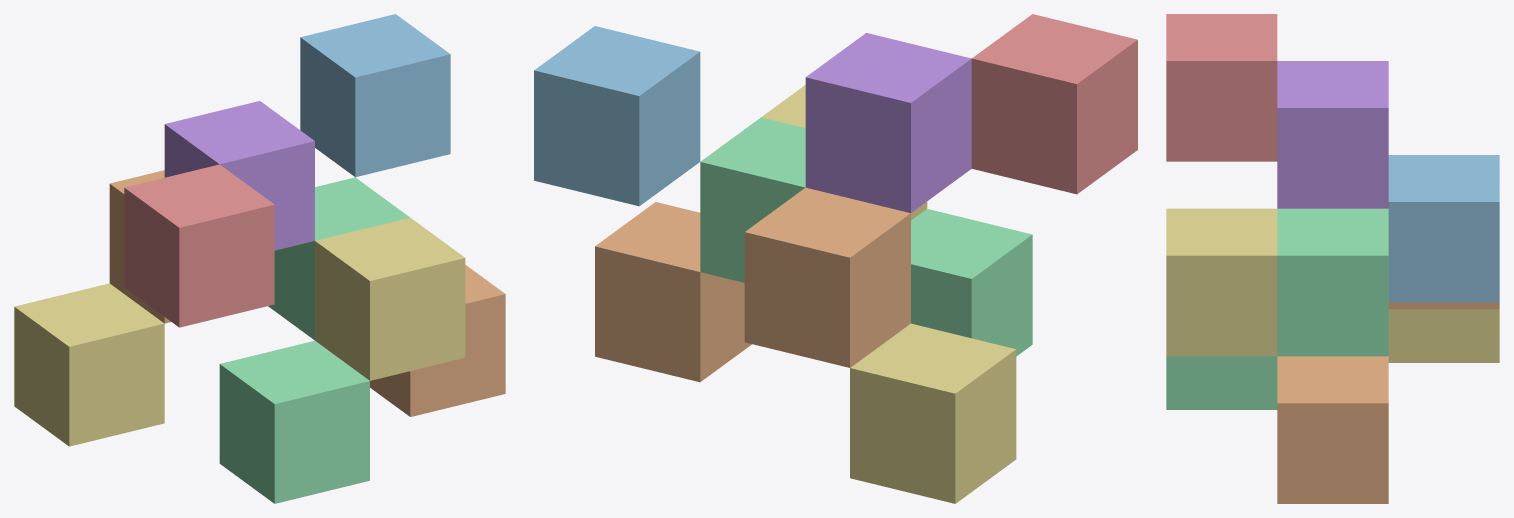
The model's file is MaxArtBoxs.gltf.
The picture shows the model from 3 angles, left to right: view 1: azimuth 30°, elevation 25°; view 2: azimuth 150°, elevation 25°; view 3: azimuth 270°, elevation 25°; orthographic projection. The views are drawn at different scales.
Parts seen in each view (by area): view 1: Model (×9); view 2: Model (×9); view 3: Model (×9).
Boxes of the visible parts, box(x1,y1,x2,y2) form: Model (×9): box(14, 14, 505, 503); Model (×9): box(534, 14, 1137, 503); Model (×9): box(1166, 14, 1499, 503).
Size of the model in its own units: 67.47 by 50.6 by 50.6.
